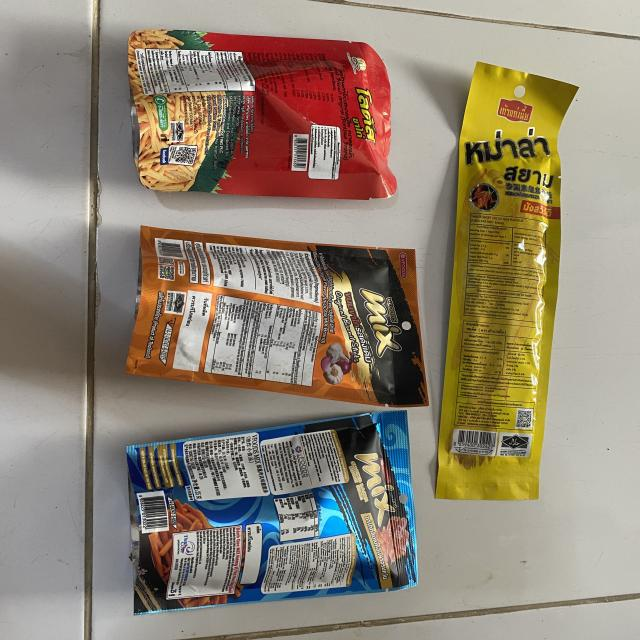plastik: (435, 62, 578, 500), (126, 410, 418, 615), (126, 226, 429, 406), (128, 29, 396, 199)
